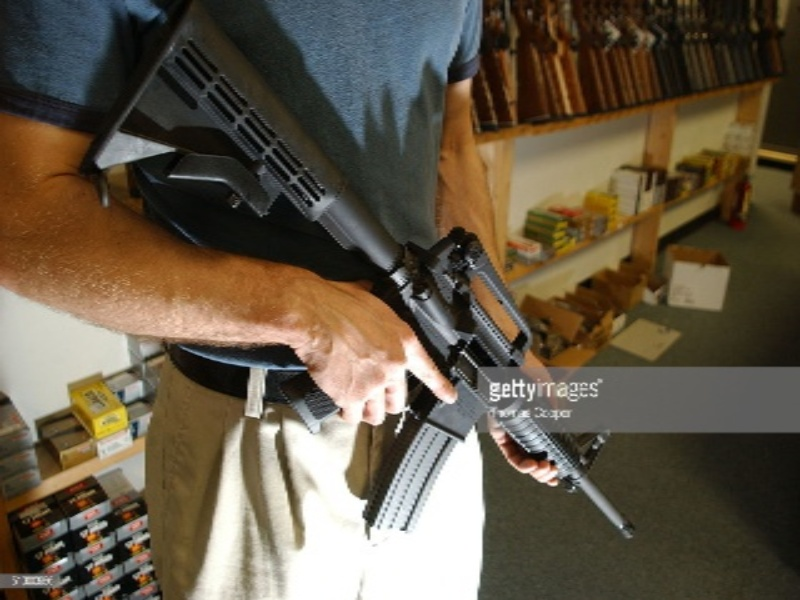person: (1, 1, 561, 600)
weapon: (90, 5, 636, 539)
